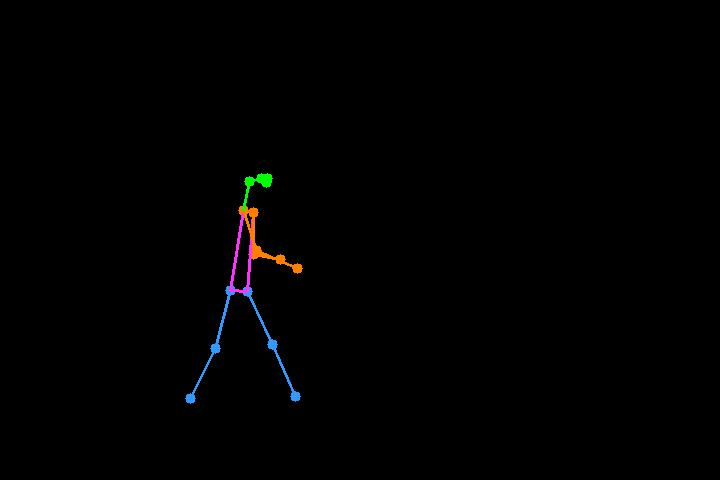normal: (183, 164, 315, 425)
